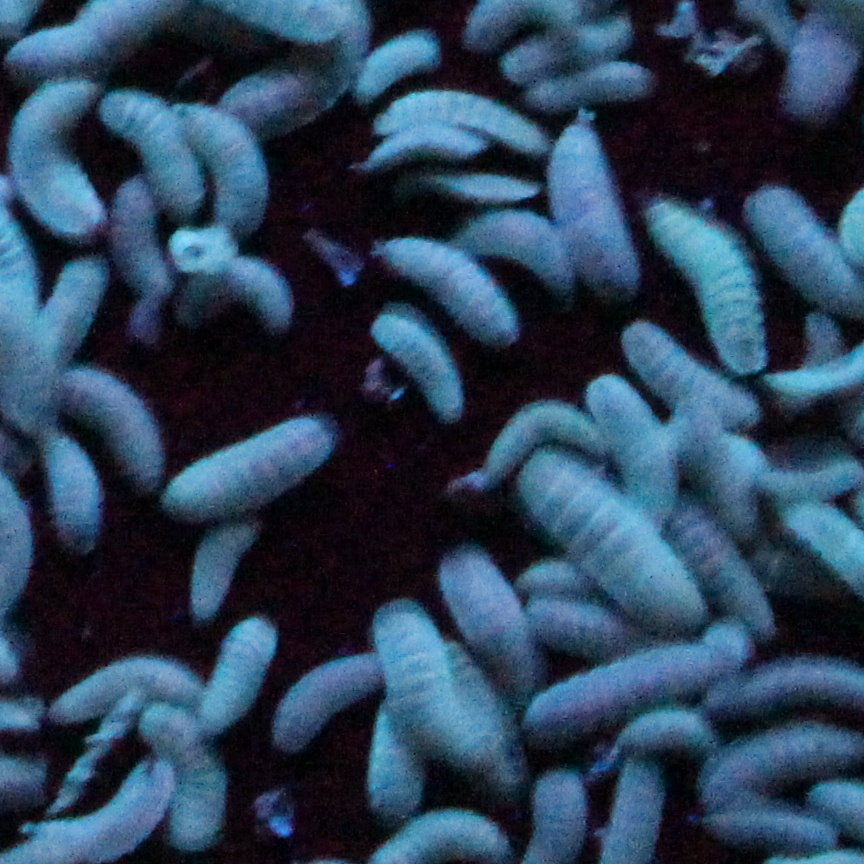larve: (534, 469, 682, 614), (9, 75, 112, 235), (660, 199, 760, 358), (168, 410, 323, 506), (398, 246, 530, 346), (276, 631, 378, 757), (360, 302, 471, 414), (553, 128, 634, 277), (382, 602, 453, 751), (366, 93, 551, 150), (191, 107, 273, 225), (197, 617, 275, 717), (166, 257, 287, 321), (45, 421, 101, 558), (123, 107, 194, 207), (695, 806, 840, 853), (54, 655, 196, 702), (29, 804, 169, 845), (169, 735, 222, 842), (179, 528, 253, 602), (563, 666, 699, 700), (711, 531, 758, 622), (359, 35, 434, 89), (364, 754, 416, 813), (613, 712, 693, 750), (523, 18, 619, 46), (530, 68, 641, 89)
